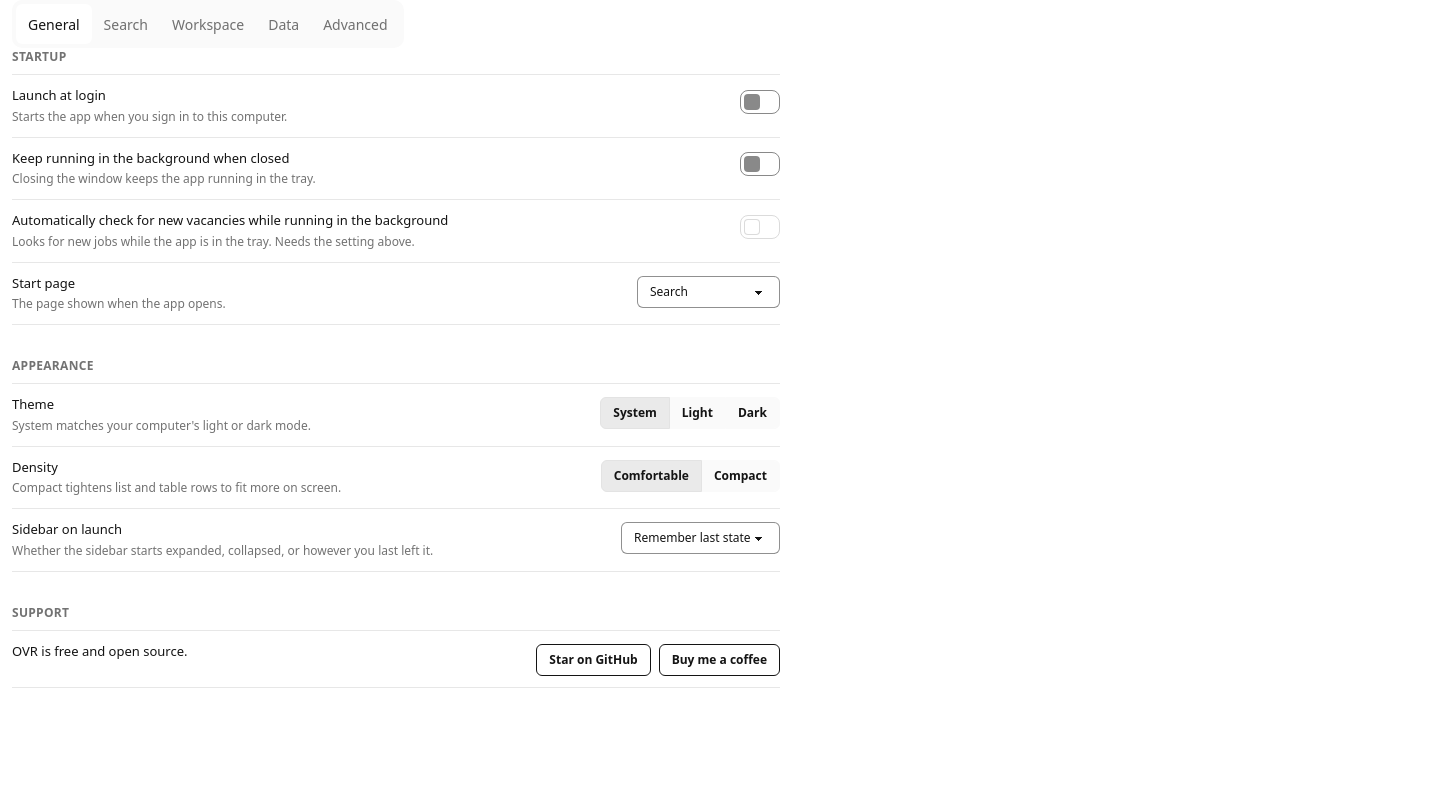
SettingsPage › applies a density change to the document immediately and persists it
The image size is (1452, 810).
Expected: the dropdown labelled "Start page" is shown, [637,276,780,308]
Click the button "Compact" at (740, 476), box [701,460,780,492]
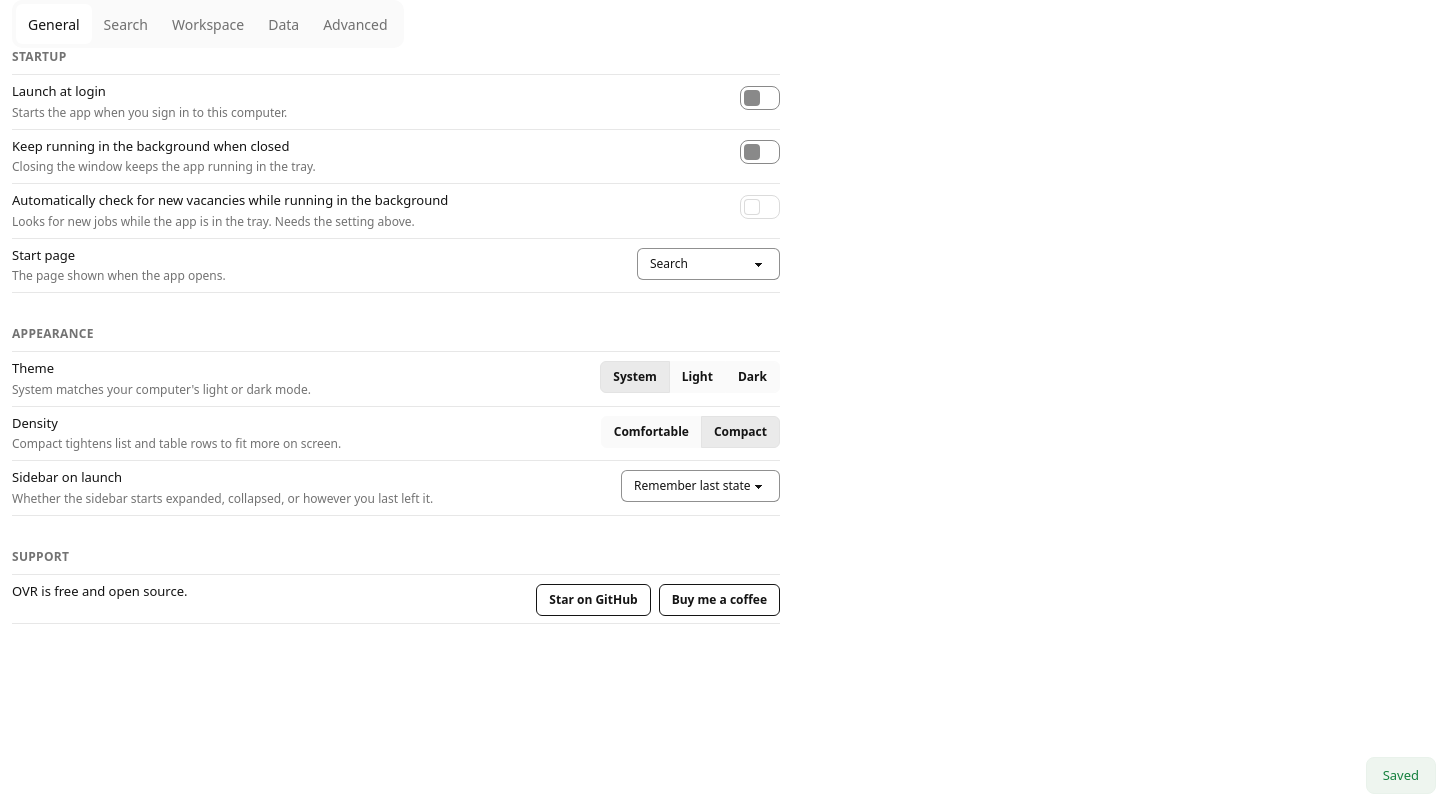
Now the text "Saved" is shown, box [1366,756,1436,794]
